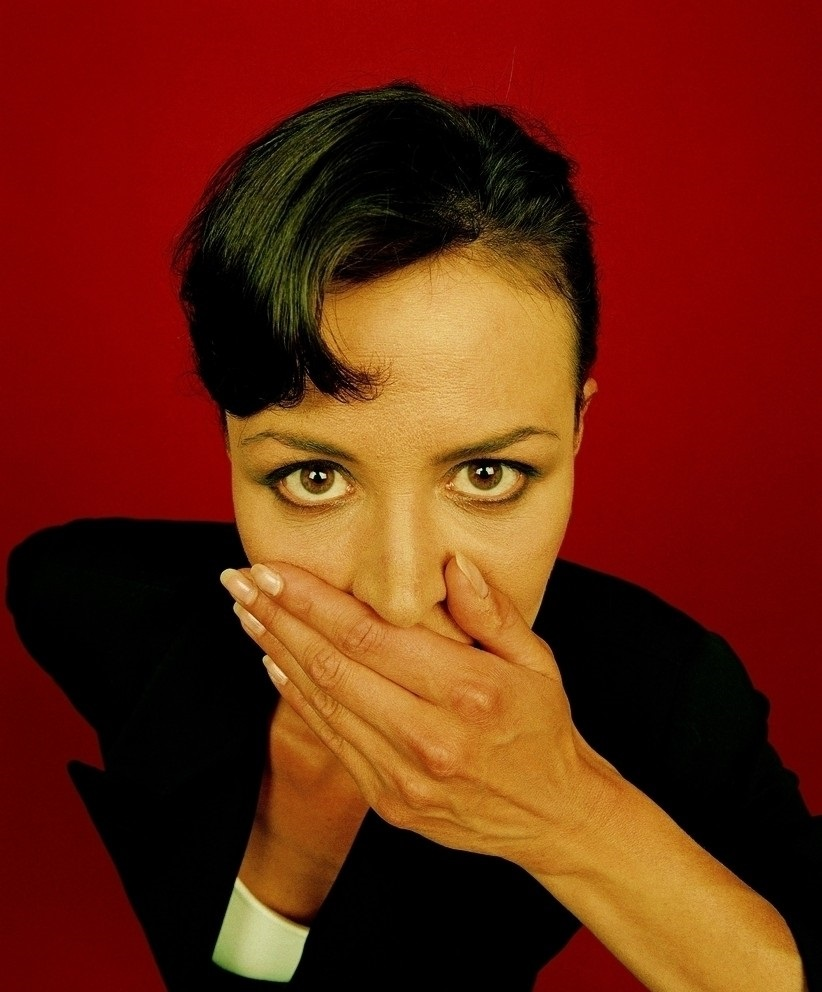face: (228, 261, 580, 696)
